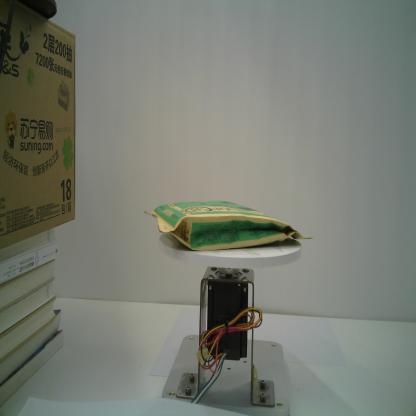Dried Food: (141, 196, 316, 252)
